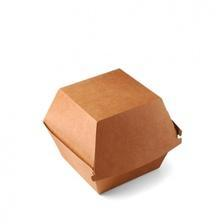box: (42, 69, 183, 195)
